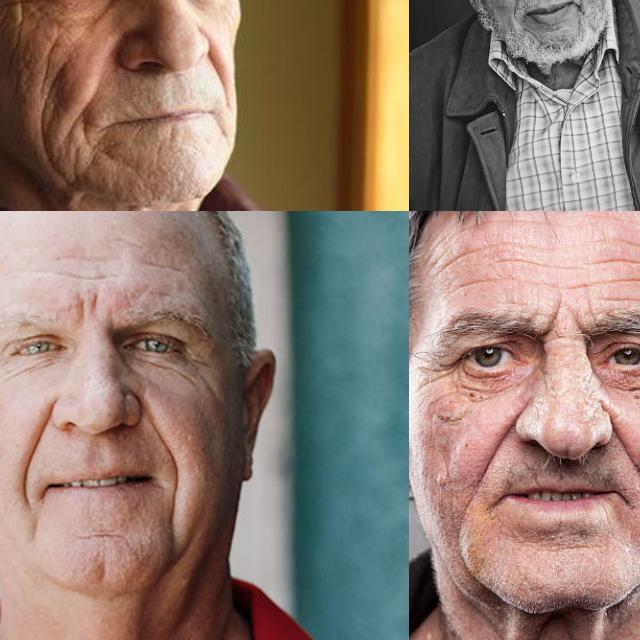chin: (541, 532, 601, 558), (76, 524, 128, 544)
crows_feet: (412, 356, 458, 394), (2, 0, 43, 17)
forehead: (501, 236, 577, 284), (591, 240, 640, 298), (430, 233, 484, 271), (49, 260, 122, 286), (138, 255, 186, 275)
frown_line: (544, 293, 584, 343), (71, 287, 105, 327)
gummy_smile: (476, 418, 522, 478), (139, 393, 177, 457), (604, 413, 640, 475), (20, 416, 52, 480), (66, 102, 98, 144), (209, 55, 233, 95), (509, 0, 527, 14)
masseter: (30, 108, 60, 164), (446, 506, 474, 566), (36, 40, 68, 91)
sad_smile: (158, 469, 190, 515)
